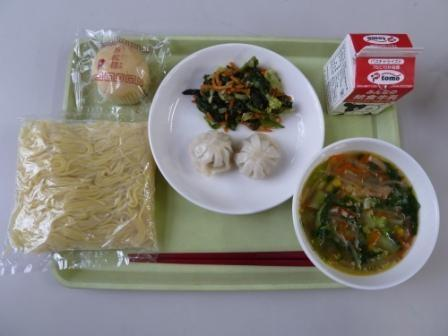Milk: (319, 25, 422, 123)
Soups: (297, 142, 433, 287)
manty: (190, 125, 288, 184)
muffin: (66, 27, 171, 112)
pasta: (9, 112, 175, 262)
salad with sauce: (187, 60, 298, 131)
